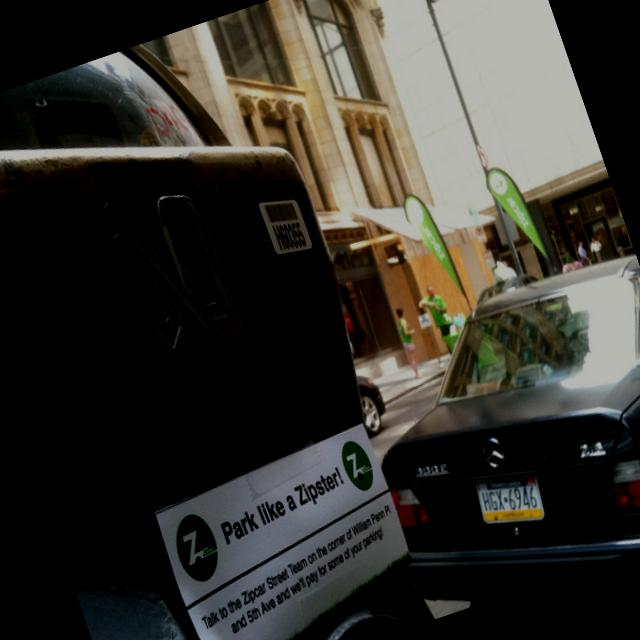Vehicle: (334, 244, 640, 621), (348, 366, 394, 436), (472, 270, 541, 306)
